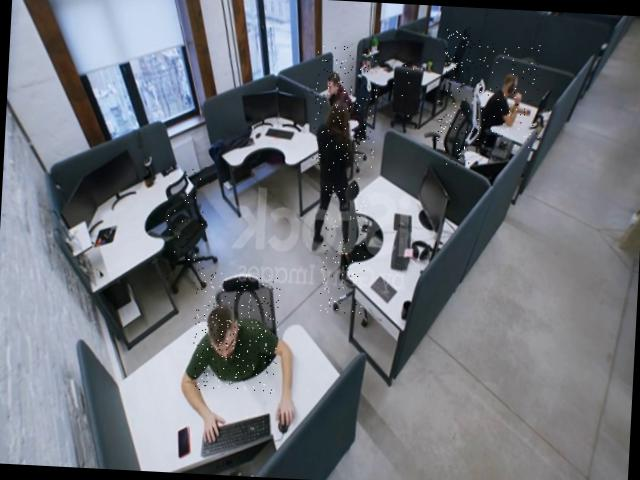empty chair: (320, 168, 370, 314), (163, 166, 210, 287), (435, 88, 473, 166), (390, 60, 428, 125), (444, 27, 474, 84)
occupiedchair: (191, 271, 281, 394), (312, 44, 379, 169), (467, 40, 544, 148)
